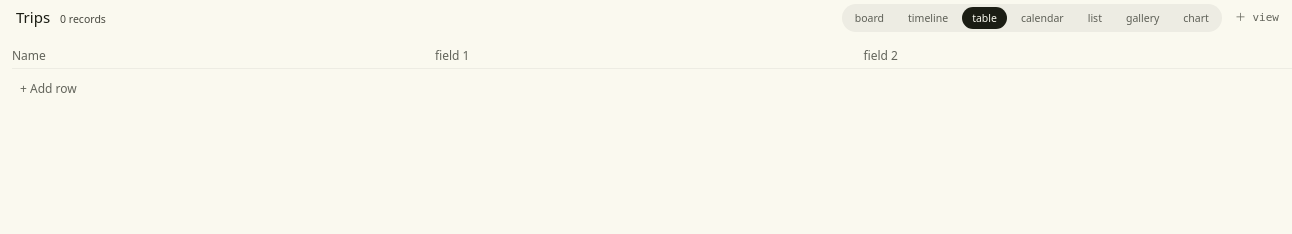
it: CollectionTable — the person's path, start to finish (KAN-380, PATH_STEPS 2-5) › try to break it: renaming to an existing field's name is refused and writes nothing
Click the button "field 2": (881, 56) [863,48,1280,64]
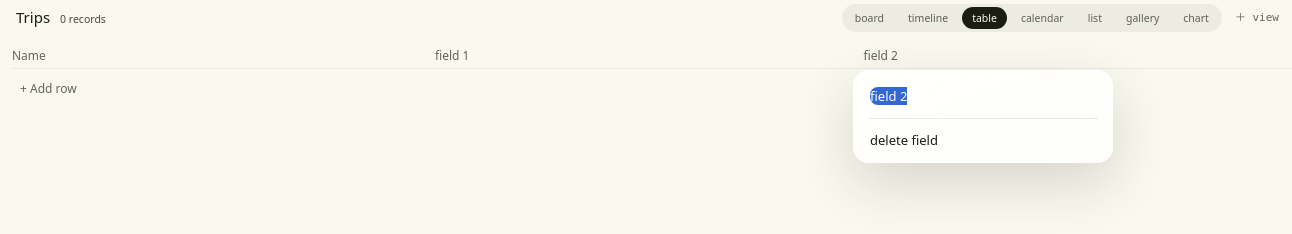
Clear the field named "field name": (983, 96) [870,87,1096,105]
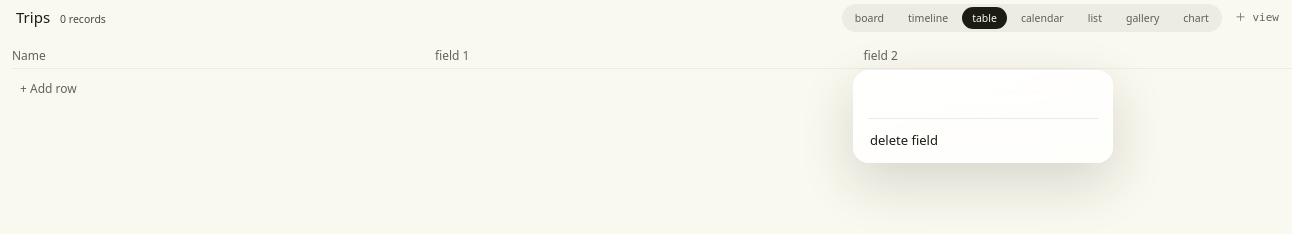
Type keys "field 1{Enter}"
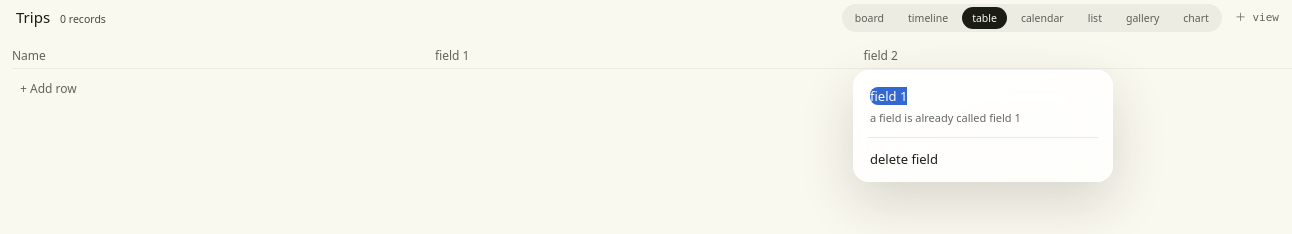
expect the button "field 2" is shown: met, box [863,48,1280,64]
expect the menu named "field 2 field menu" is shown: met, box [853,70,1113,182]
expect the text "a field is already called field 1" is shown: met, box [870,110,1021,125]
